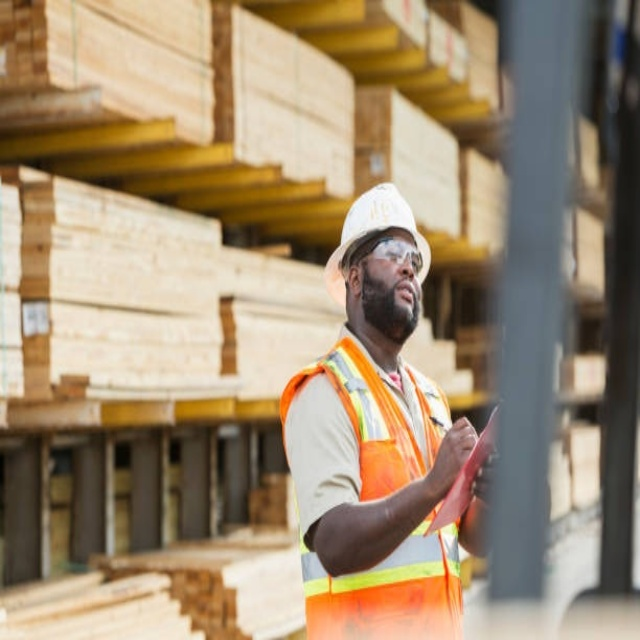Gafas: (358, 238, 424, 276)
Sin_guantes: (431, 416, 479, 493), (469, 442, 499, 504)
Sin_mascara: (387, 279, 420, 312)
